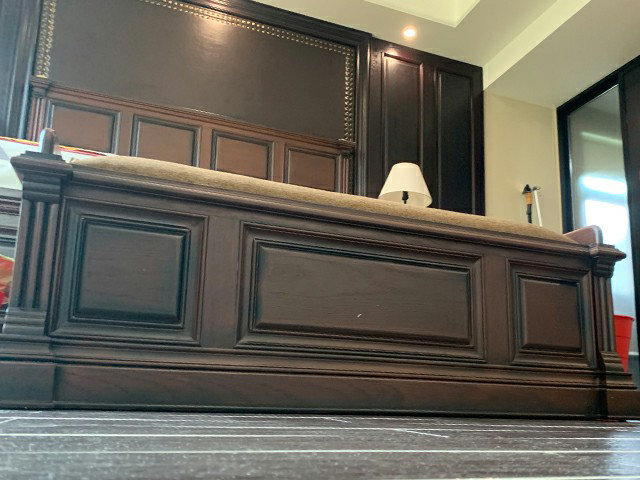stool: (1, 127, 640, 423)
